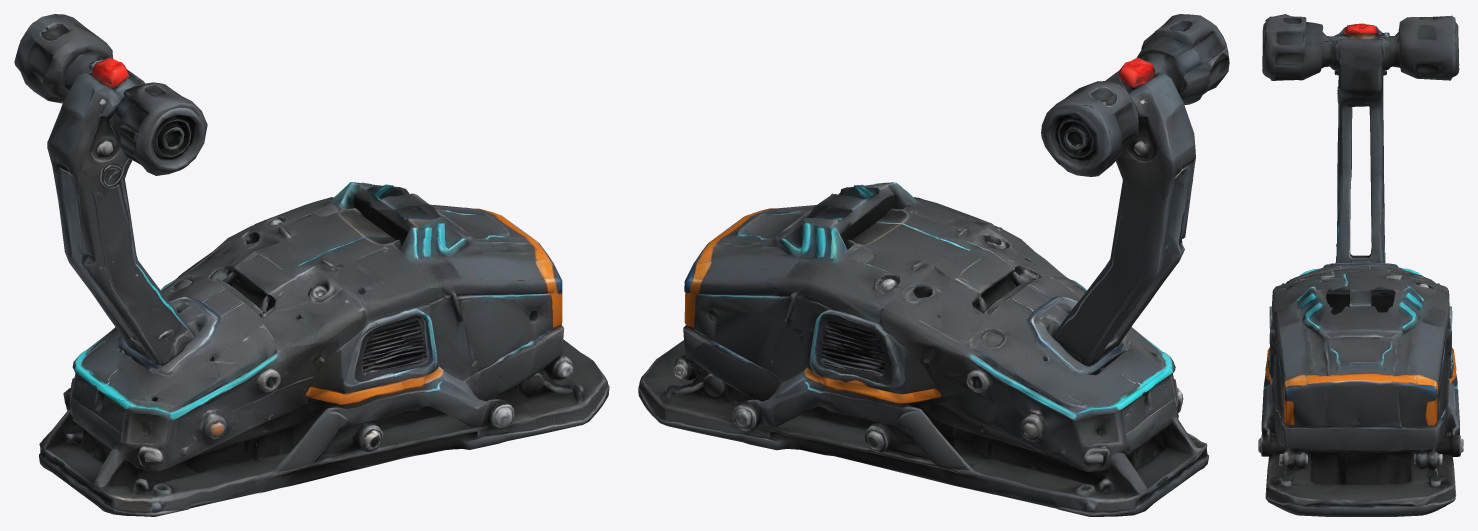
The model's file is throttle.glb.
The picture shows the model from 3 angles, left to right: view 1: azimuth 30°, elevation 25°; view 2: azimuth 150°, elevation 25°; view 3: azimuth 270°, elevation 25°; orthographic projection. The views are drawn at different scales.
Visible parts, largest first — view 1: tripo_part_0, tripo_part_2, tripo_part_3; view 2: tripo_part_0, tripo_part_2, tripo_part_3; view 3: tripo_part_0, tripo_part_2, tripo_part_3.
Part boxes in pixels (box(x1,y1,x2,y2)): tripo_part_0: box(39, 182, 609, 516); tripo_part_2: box(47, 54, 207, 367); tripo_part_3: box(14, 14, 113, 103); tripo_part_0: box(638, 182, 1208, 516); tripo_part_2: box(1052, 14, 1229, 365); tripo_part_3: box(1041, 81, 1138, 176); tripo_part_0: box(1258, 258, 1463, 516); tripo_part_2: box(1262, 14, 1399, 263); tripo_part_3: box(1397, 15, 1459, 80).
Bounding box in the file's own units: 0.3 × 0.2378 × 0.1355.
Materials: 3 (3 with a texture image).
